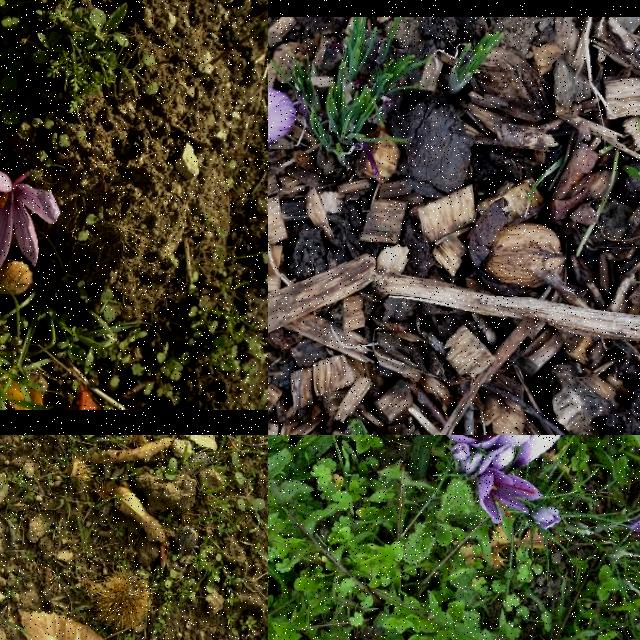flower: (0, 153, 59, 283), (268, 82, 297, 187), (534, 506, 562, 530), (633, 519, 640, 534)
overlap: (439, 435, 567, 524)
